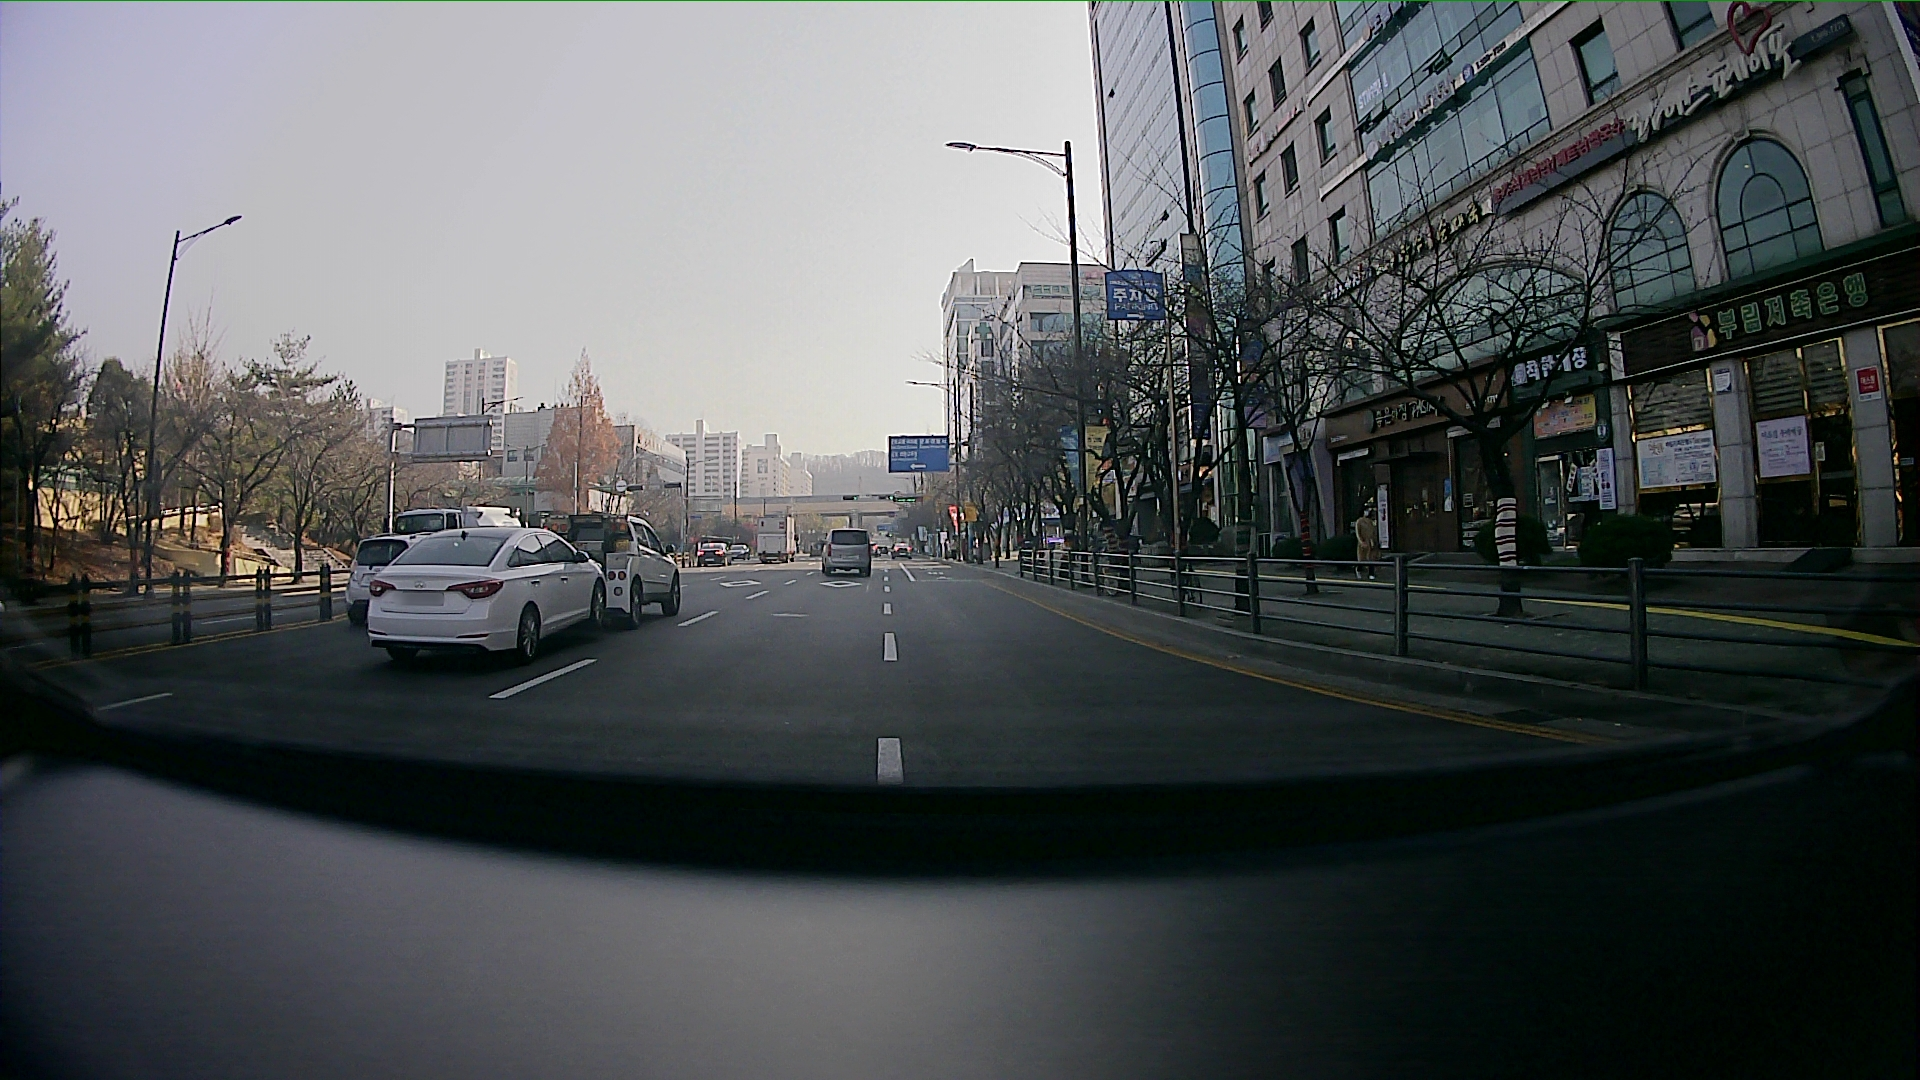trafficLight: (843, 492, 899, 506)
